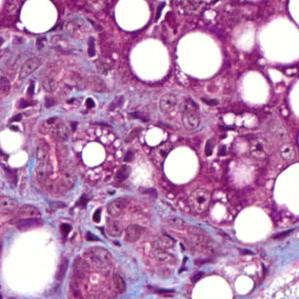steatosis: (177, 35, 224, 77), (128, 38, 172, 82), (232, 203, 271, 246), (162, 146, 200, 184)
